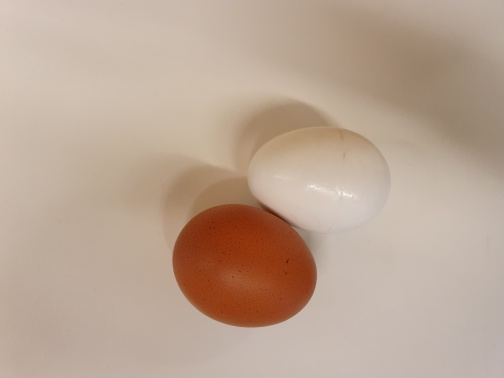egg: (171, 204, 317, 331), (248, 126, 389, 235)
